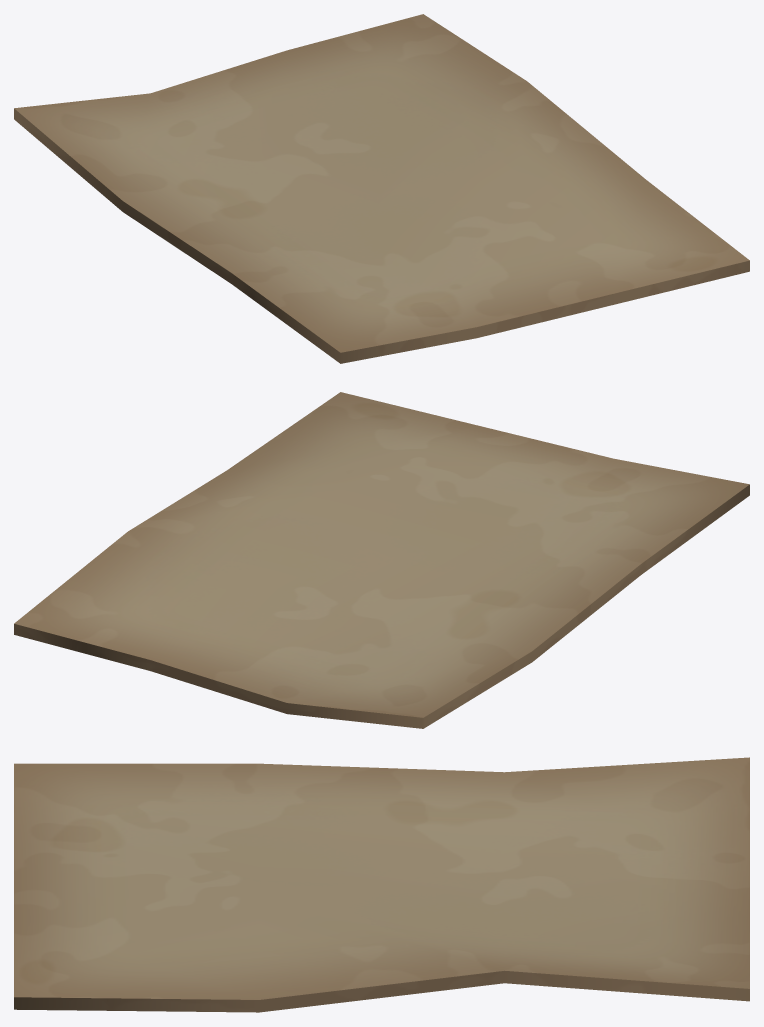
The model's file is Paper_B.fbx.
3 renders of one model, top to bottom at view 1: azimuth 30°, elevation 25°; view 2: azimuth 150°, elevation 25°; view 3: azimuth 270°, elevation 25°, orthographic. The views are drawn at different scales.
Visible parts, largest first — view 1: U_Paper_B; view 2: U_Paper_B; view 3: U_Paper_B.
Boxes of the visible parts, box(x1,y1,x2,y2) form: U_Paper_B: box(14, 14, 749, 363); U_Paper_B: box(14, 392, 749, 728); U_Paper_B: box(14, 757, 749, 1012).
Size of the model in its own units: 58.61 by 5.07 by 80.02.
Materials: 1 (1 with a texture image).
